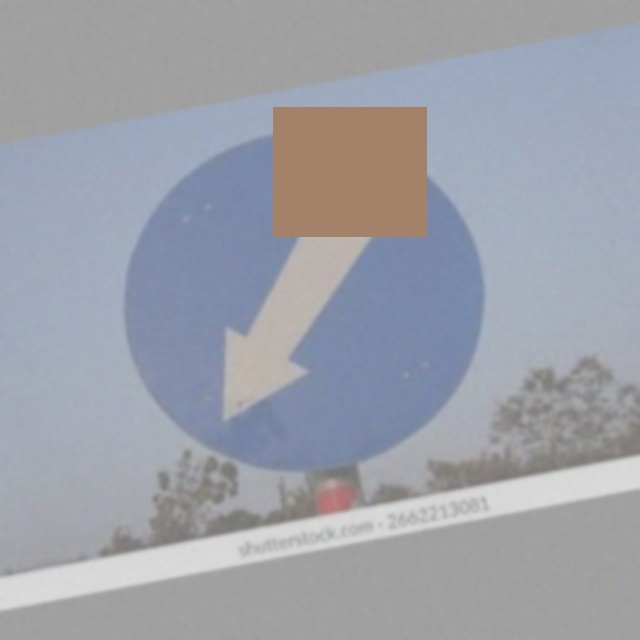Compulsory_Keep_Left: (99, 107, 500, 486)
